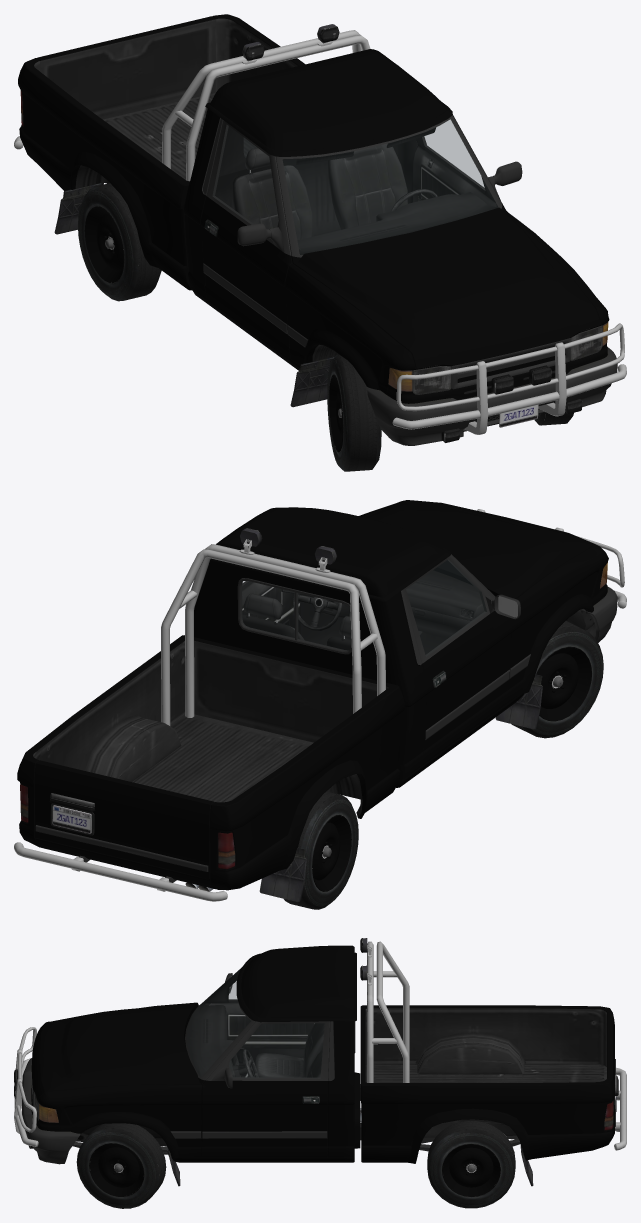
Rendered from traffic_pickup_90s.glb.
The picture shows the model from 3 angles, top to bottom: view 1: azimuth 30°, elevation 25°; view 2: azimuth 150°, elevation 25°; view 3: azimuth 270°, elevation 25°; orthographic projection. The views are drawn at different scales.
Visible parts, largest first — view 1: body, wheel_rr_mesh, wheel_fr_mesh; view 2: body, wheel_fr_mesh, wheel_rr_mesh; view 3: body, wheel_rl_mesh, wheel_fl_mesh.
Part boxes in pixels (left/top/right/bottom): body: left=14, top=14, right=626, bottom=445; wheel_rr_mesh: left=78, top=183, right=161, bottom=301; wheel_fr_mesh: left=327, top=354, right=381, bottom=471; body: left=14, top=500, right=626, bottom=902; wheel_fr_mesh: left=511, top=621, right=603, bottom=738; wheel_rr_mesh: left=284, top=791, right=358, bottom=909; body: left=14, top=938, right=626, bottom=1186; wheel_rl_mesh: left=427, top=1121, right=515, bottom=1208; wheel_fl_mesh: left=76, top=1123, right=166, bottom=1208.
Bounding box in the file's own units: 1.89 × 1.84 × 4.75.
8 materials, 7 textured.
